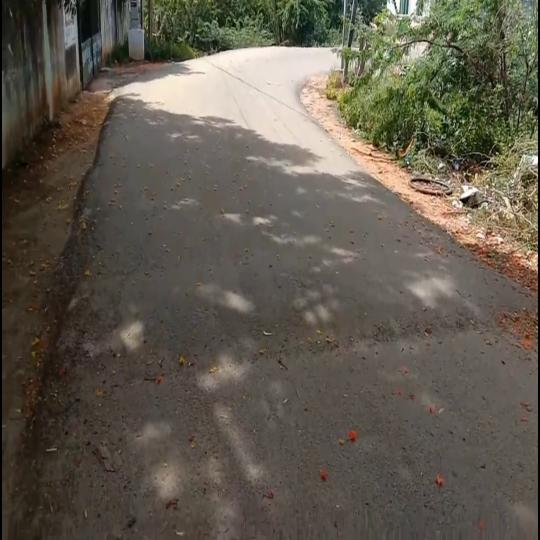Speed Bump: (55, 246, 538, 359)
